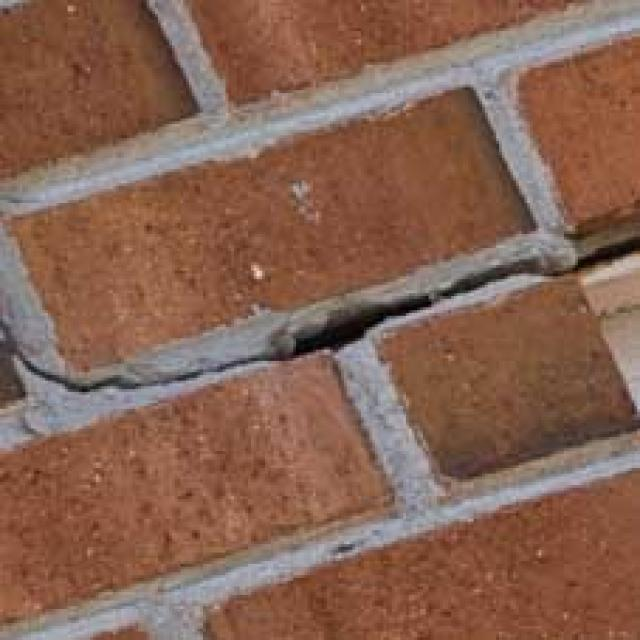Crack: (0, 208, 640, 475)
